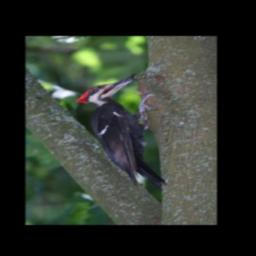Woodpecker: (75, 75, 167, 190)
